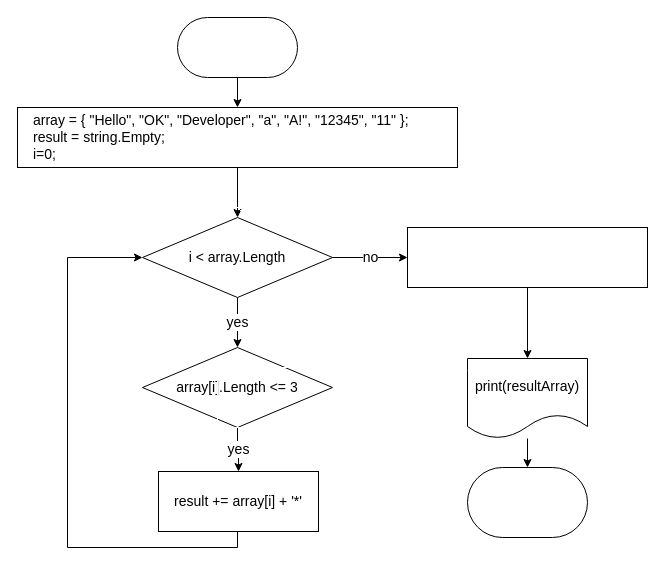
This 665x573 diagram has some shape labels left out. The shapes that lost their labels are listed below. From the top down, each one's centre as x and y in pixels, then its label:
At point 237,47: "start".
At point 527,257: "resultArray = result.Split('*')".
At point 527,502: "end".
